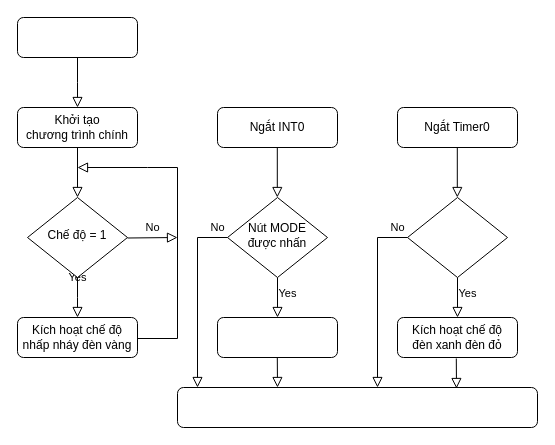
The diagram is 555 pixels wide and 445 high, and some of its shapes have lost their labels. Here are the shapes that lost their labels. From the top down, the centre of each, then its label:
At (77,37): "Bắt đầu".
At (457,237): "Chế độ = 0".
At (277,337): "Chuyển chế độ".
At (357,407): "Quay về chương trình chính tại nơi xảy ra ngắt".
